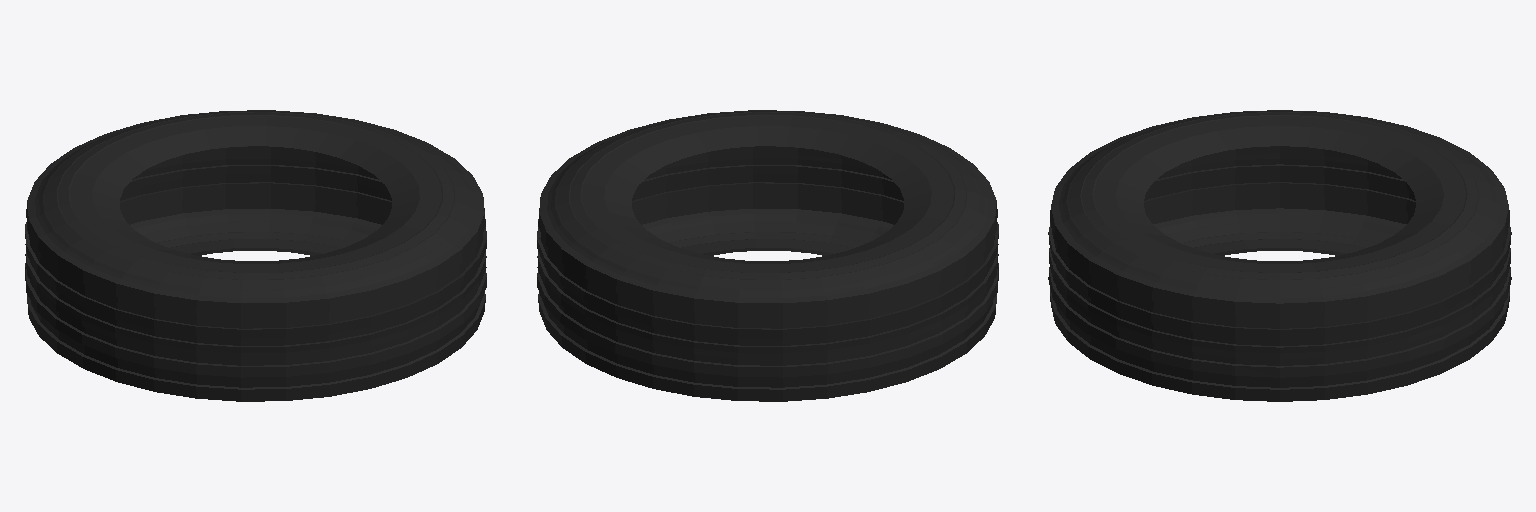
Rendered from gd250_tire.obj.
The picture shows the model from 3 angles: view 1: azimuth 30°, elevation 25°; view 2: azimuth 150°, elevation 25°; view 3: azimuth 270°, elevation 25°; orthographic projection.
Visible parts, largest first — view 1: Cylinder; view 2: Cylinder; view 3: Cylinder.
Part boxes in pixels (x1,y1,x2,y2): Cylinder: (25, 110, 486, 401); Cylinder: (537, 110, 998, 401); Cylinder: (1048, 110, 1511, 401).
Size of the model in its own units: 0.7724 by 0.228 by 0.7724.